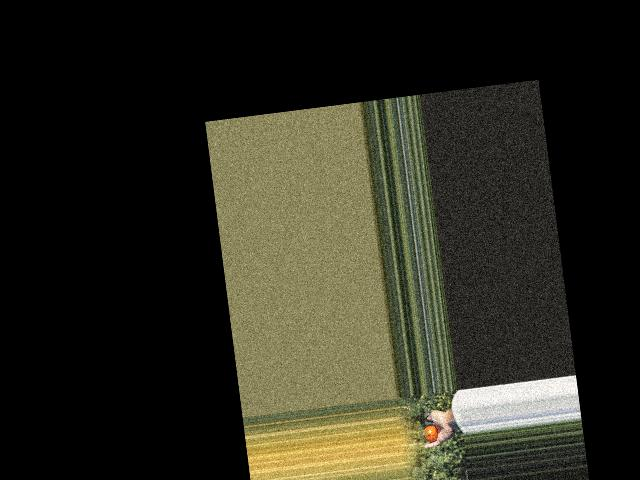tomato: (422, 425, 438, 443)
